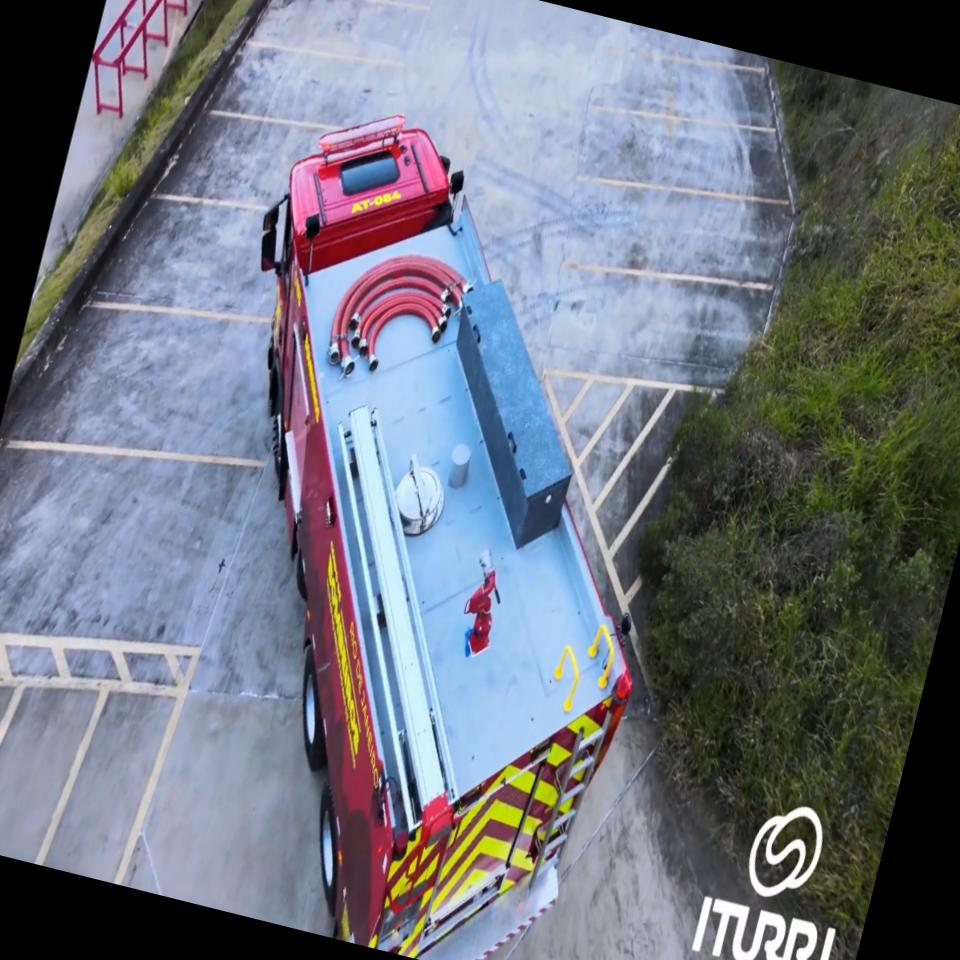viatura: (97, 81, 761, 960)
